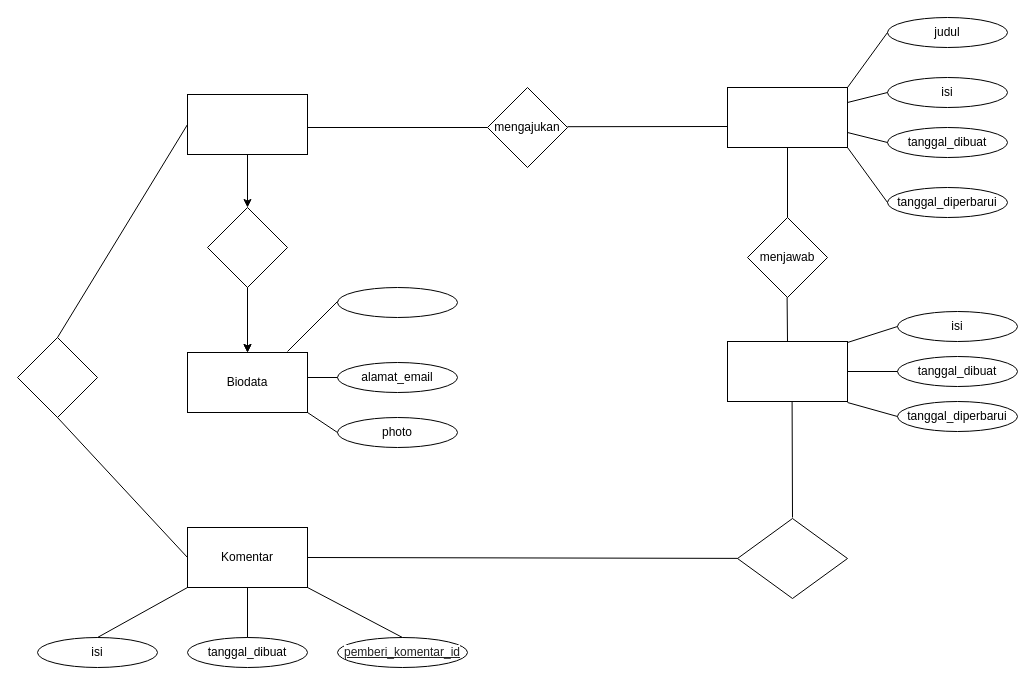
Some shapes in this 1035 by 685 pixel diagram are drawn without their labels. The shapes that lost their labels are listed below. From the top down, each one's centre as x and y in pixels, then its label:
point (247, 124): User
point (787, 117): Pertanyaan
point (247, 247): mengisi
point (397, 302): nama_lengkap
point (57, 377): memberi
point (787, 371): Jawban
point (792, 558): mempunyai/ menanggapi
